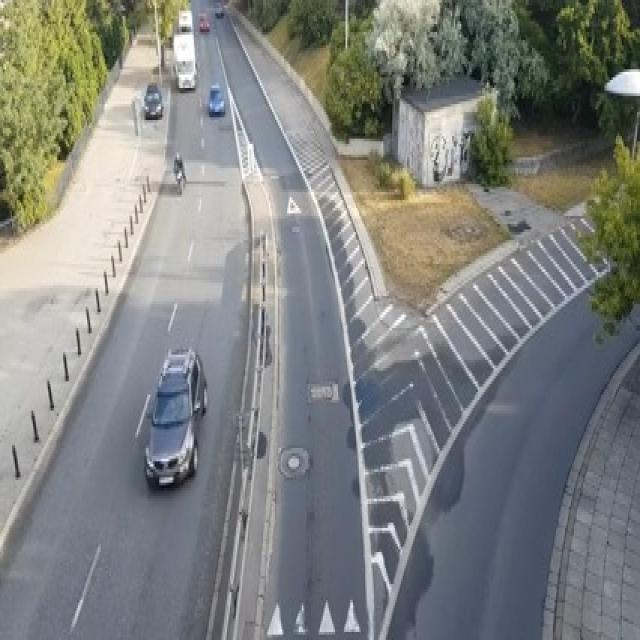car: (143, 344, 207, 488), (143, 83, 162, 117), (208, 82, 225, 114), (178, 8, 192, 32), (198, 11, 209, 32), (214, 0, 222, 16)
truck: (171, 8, 197, 91)
